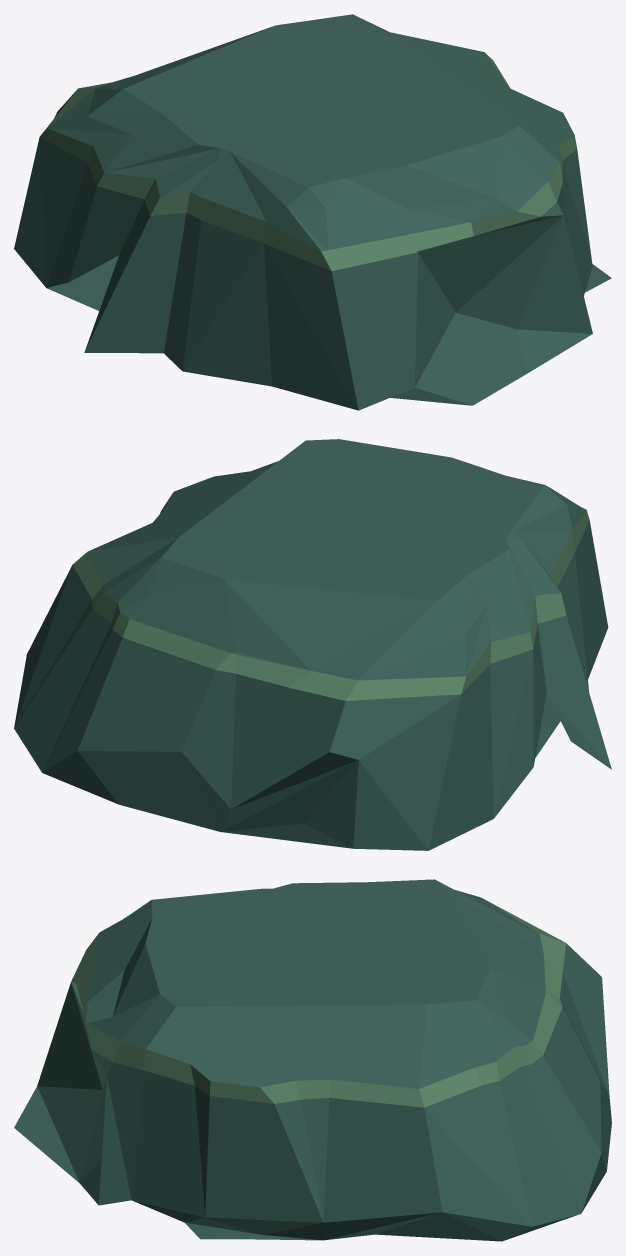
Rendered from Stone_16.fbx.
3 views of the same model, one above another, from view 1: azimuth 30°, elevation 25°; view 2: azimuth 150°, elevation 25°; view 3: azimuth 270°, elevation 25° (orthographic). The views are drawn at different scales.
Parts seen in each view (by area): view 1: Stone 16; view 2: Stone 16; view 3: Stone 16.
Part boxes in pixels (bbox=[...]): Stone 16: bbox=[14, 14, 611, 410]; Stone 16: bbox=[14, 439, 611, 850]; Stone 16: bbox=[14, 879, 611, 1241].
Bounding box in the file's own units: 6447 × 2498 × 6788.
